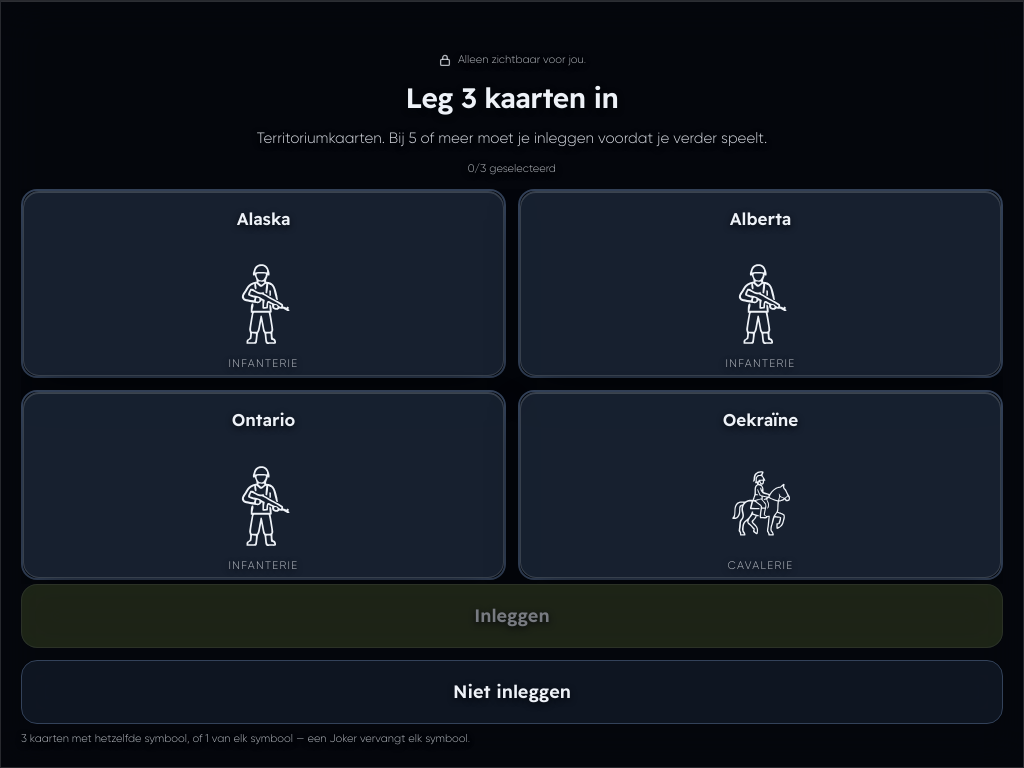
Test: CardsPanel › blokkeert verdere selectie zodra er al 3 gekozen zijn, geselecteerde tegels blijven togglebaar
Click the checkbox labelled "Alaska Infanterie" at x=264, y=284, box [21,189,506,378]
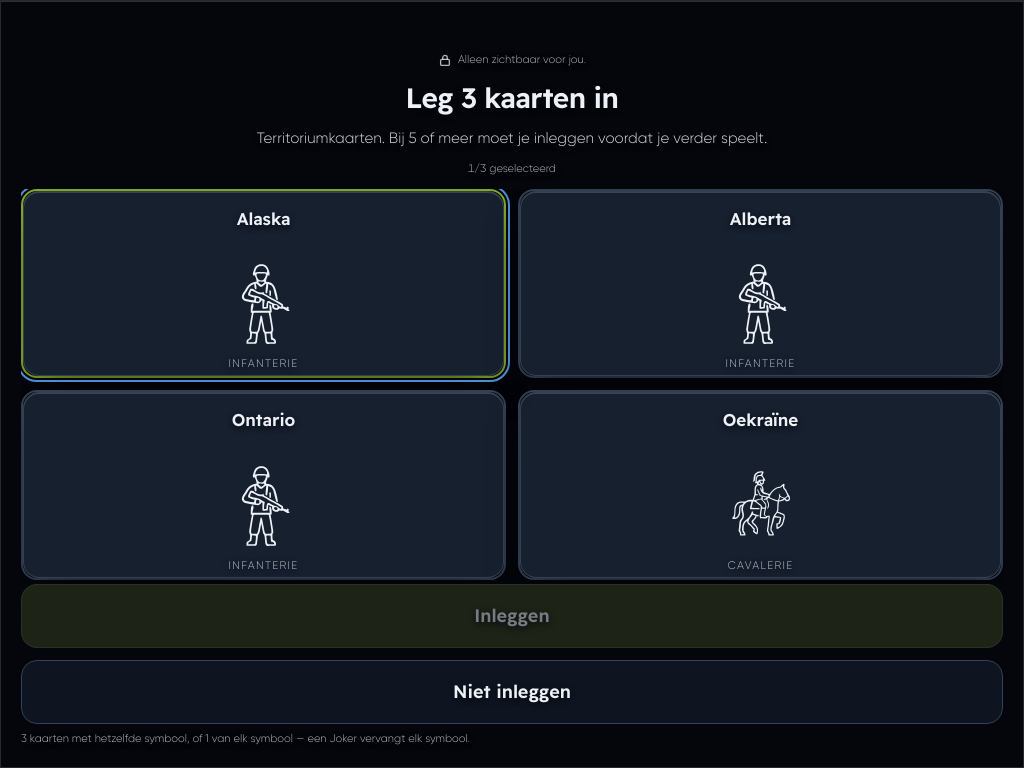
Click the checkbox labelled "Alberta Infanterie" at x=760, y=284, box [518,189,1003,378]
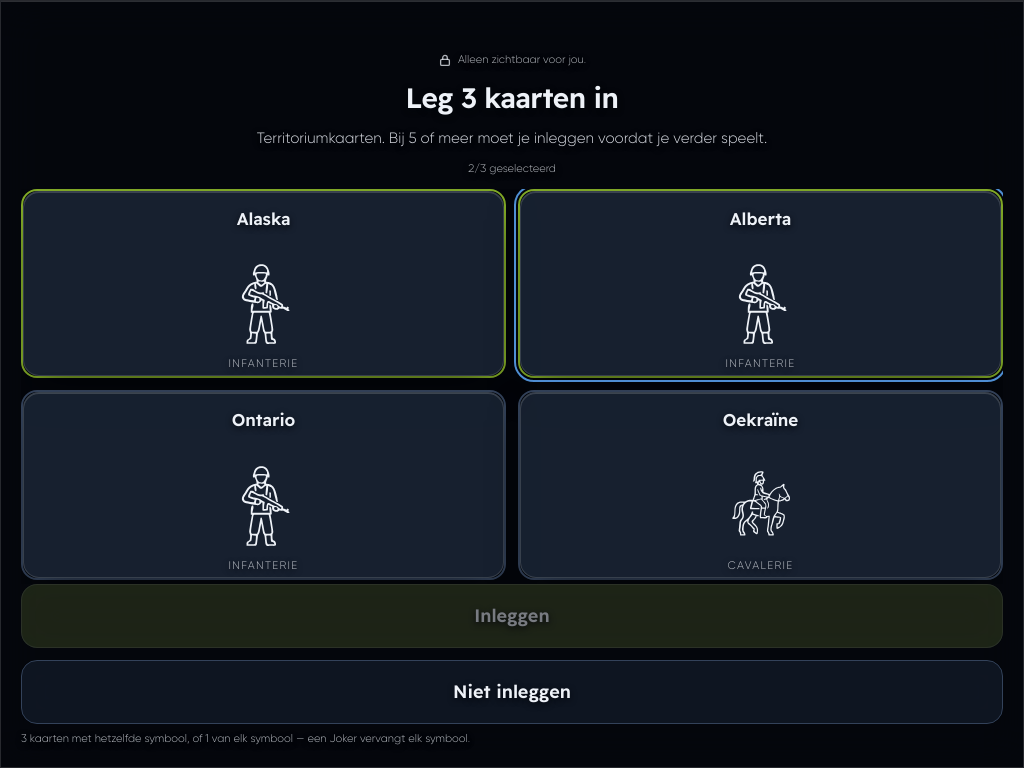
Click the checkbox labelled "Ontario Infanterie" at x=264, y=485, box [21,390,506,580]
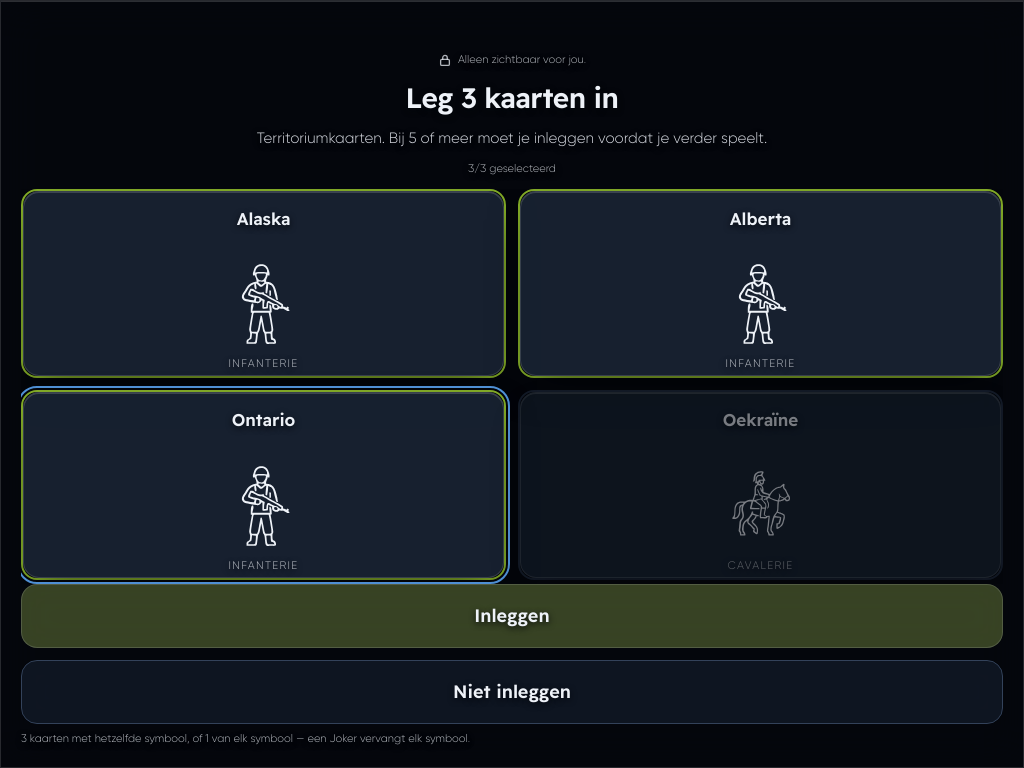
Expected: the checkbox labelled "Oekraïne Cavalerie" is disabled, [518,390,1003,580]
Click the checkbox labelled "Alaska Infanterie" at x=264, y=284, box [21,189,506,378]
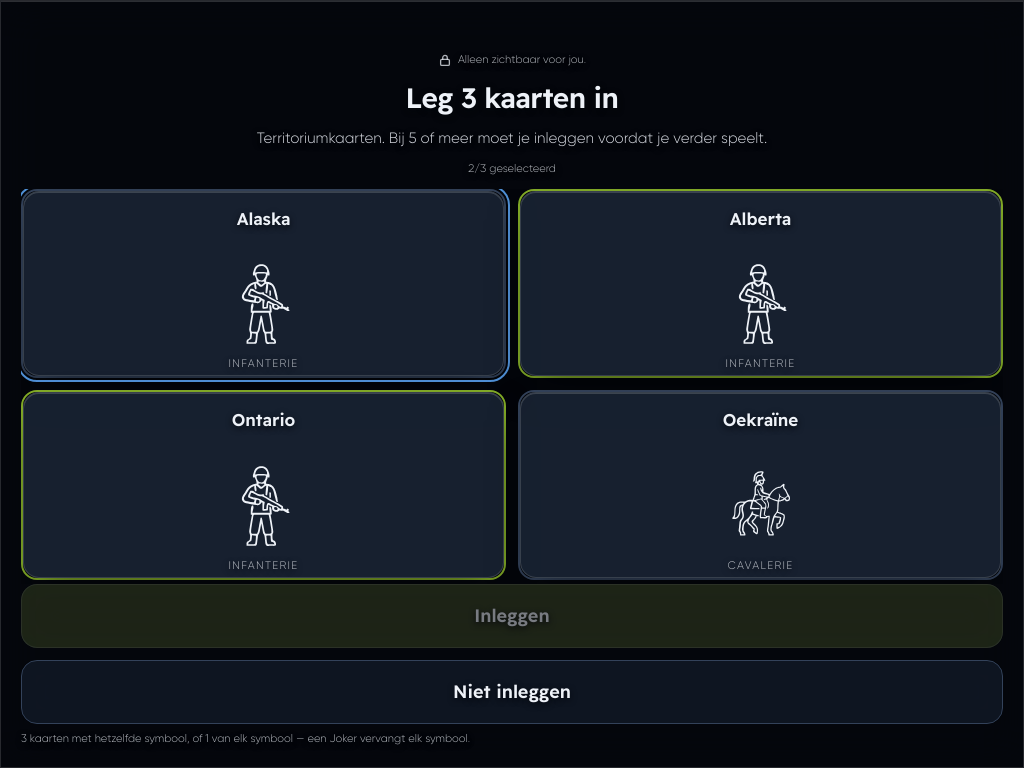
Expected: the checkbox labelled "Oekraïne Cavalerie" is enabled, [518,390,1003,580]
